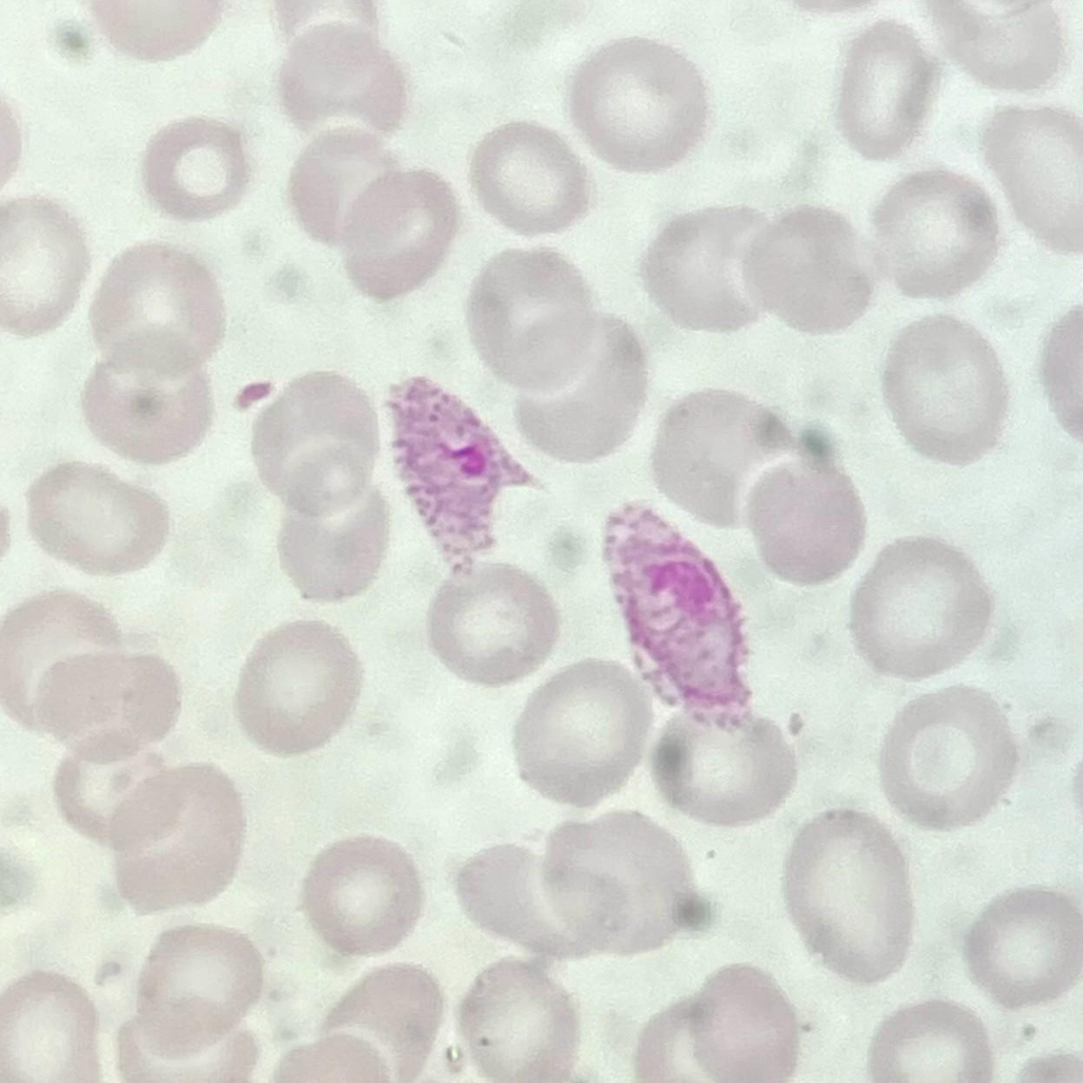Infected: (598, 500, 763, 738), (382, 370, 546, 566)
Uninfected: (784, 808, 912, 988), (452, 839, 633, 962), (541, 812, 693, 956), (510, 656, 648, 809), (877, 687, 1020, 831), (517, 313, 652, 465), (651, 387, 798, 526), (109, 760, 245, 908), (562, 37, 704, 175), (888, 311, 1012, 465), (254, 367, 381, 517), (858, 537, 992, 677), (740, 198, 876, 335), (91, 244, 228, 380), (0, 595, 134, 734), (656, 702, 803, 828), (469, 248, 594, 392), (230, 615, 360, 751), (35, 645, 186, 762), (83, 328, 212, 463), (641, 200, 768, 336), (743, 446, 867, 585), (56, 732, 190, 859), (22, 463, 171, 574), (877, 161, 999, 296), (339, 170, 462, 302), (984, 96, 1083, 255), (432, 563, 556, 689), (276, 22, 403, 145), (137, 925, 257, 1055), (304, 834, 424, 958), (460, 956, 575, 1083), (465, 122, 593, 236), (964, 886, 1083, 1003), (282, 124, 396, 243), (328, 964, 442, 1083), (690, 962, 800, 1083), (276, 485, 389, 599), (0, 196, 87, 342), (840, 18, 930, 158), (141, 113, 250, 222), (0, 969, 103, 1083), (871, 999, 994, 1083)
